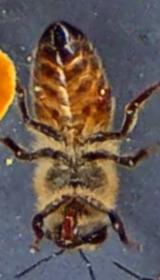varroa_mite: (84, 79, 121, 116)
